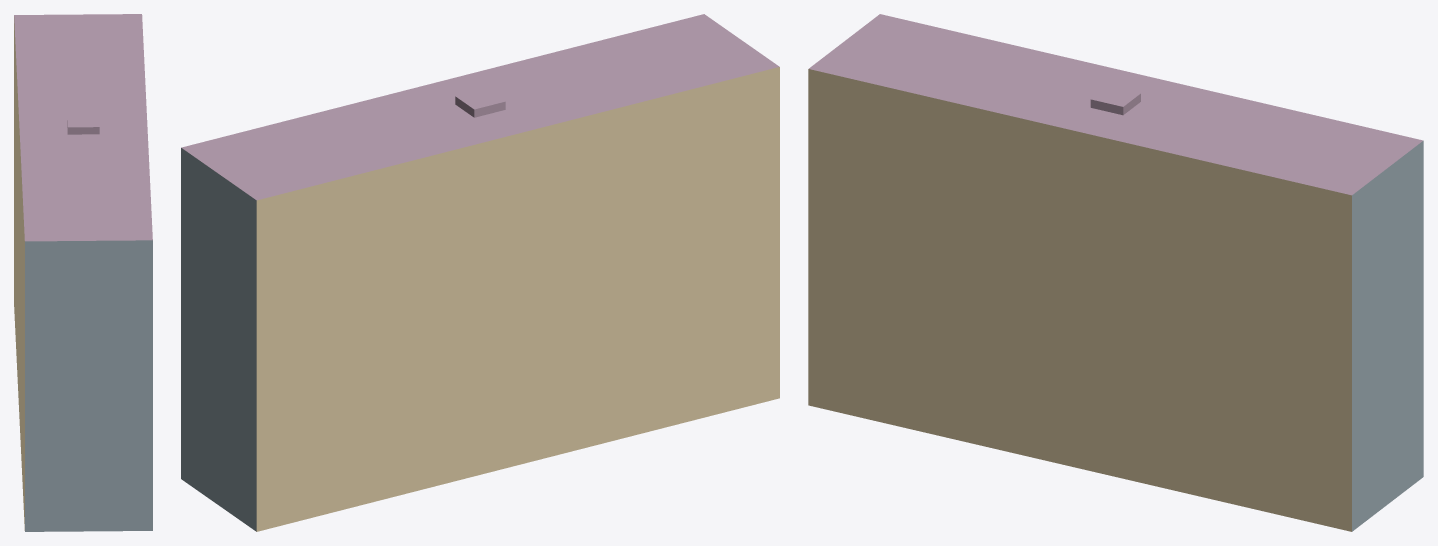
The model's file is doitt-925937__lod_1.glb.
3 views of the same model, side by side, from view 1: azimuth 30°, elevation 25°; view 2: azimuth 150°, elevation 25°; view 3: azimuth 270°, elevation 25° (orthographic). The views are drawn at different scales.
Bounding box in the file's own units: 18.8 × 16.67 × 26.93.
